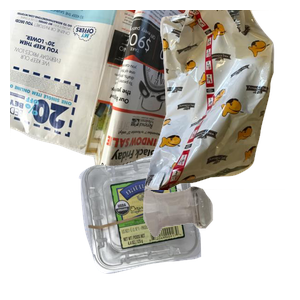glass: (141, 184, 300, 300)
paper: (10, 10, 215, 186)
plastic: (76, 151, 270, 300)
trash: (127, 10, 300, 190)
